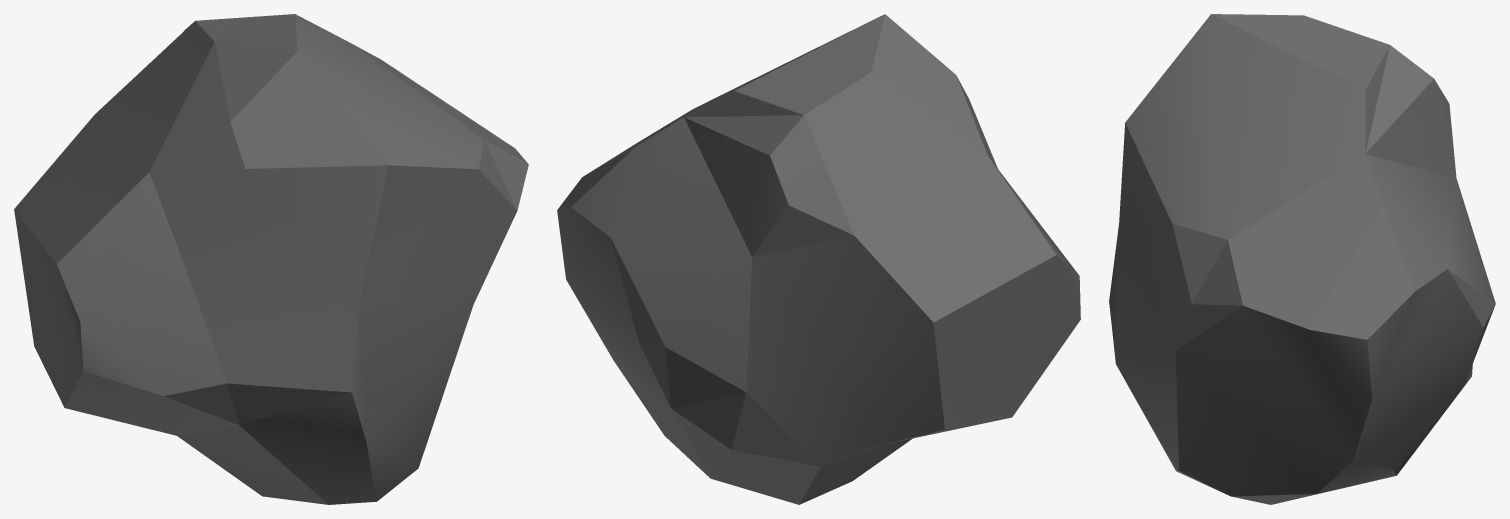
The model's file is RockD.fbx.
3 views of the same model, side by side, from view 1: azimuth 30°, elevation 25°; view 2: azimuth 150°, elevation 25°; view 3: azimuth 270°, elevation 25° (orthographic). The views are drawn at different scales.
Visible parts, largest first — view 1: RockD; view 2: RockD; view 3: RockD.
Boxes of the visible parts, x1,y1,x2,y2 form: RockD: (14,14,528,504); RockD: (557,14,1080,504); RockD: (1109,14,1495,504).
Bounding box in the file's own units: 345 × 332 × 252.
